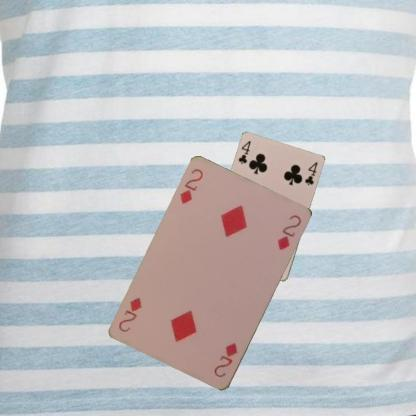2d: (211, 340, 240, 380), (176, 166, 204, 206)
4c: (236, 138, 252, 166)
